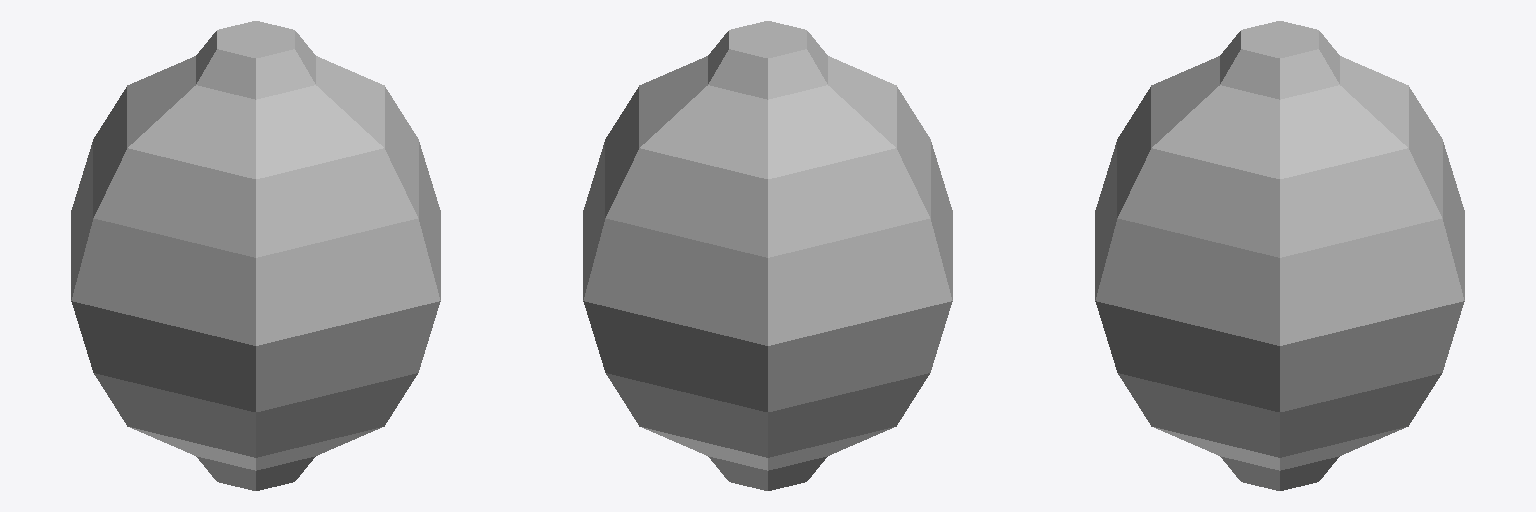
URDF robot description (root):
<?xml version='1.0' encoding='utf-8'?>
<robot name="root">
  <link name="link_001">
    <visual>
      <origin xyz="0 0 0" rpy="0 0 0" />
      <geometry>
        <mesh filename="889be85dbef98ea9909e39c1f5d512a42f44fda2fc5a660c1d6f44922d124257_scale_040.stl" scale="1.0000E+00 1.0000E+00 1.0000E+00" />
      </geometry>
      <material name="">
        <color rgba="7.50E-01 7.50E-01 7.50E-01 1" />
      </material>
    </visual>
    <collision>
      <origin xyz="0 0 0" rpy="0 0 0" />
      <geometry>
        <mesh filename="889be85dbef98ea9909e39c1f5d512a42f44fda2fc5a660c1d6f44922d124257_scale_040.stl" scale="1.0000E+00 1.0000E+00 1.0000E+00" />
      </geometry>
    </collision>
  </link>
</robot>

--- What the picture shows (computed from the rendered views, not written in the file) ---
Views: 3 orthographic renders of the robot side by side, from view 1: azimuth 30°, elevation 25°; view 2: azimuth 150°, elevation 25°; view 3: azimuth 270°, elevation 25°.
Robot: root — 1 links, 0 joints (none); root link link_001; default pose: all joints at 0.
Links seen in each view (by area): view 1: link_001; view 2: link_001; view 3: link_001.
Boxes of the visible links, box(x1,y1,x2,y2) form: link_001: box(71, 21, 440, 490); link_001: box(583, 21, 952, 490); link_001: box(1095, 21, 1464, 490).
Size in the robot's own frame: 0.0804 by 0.0696 by 0.09 metres.
1 mesh visuals loaded from 1 distinct referenced files (1 binary STL).
